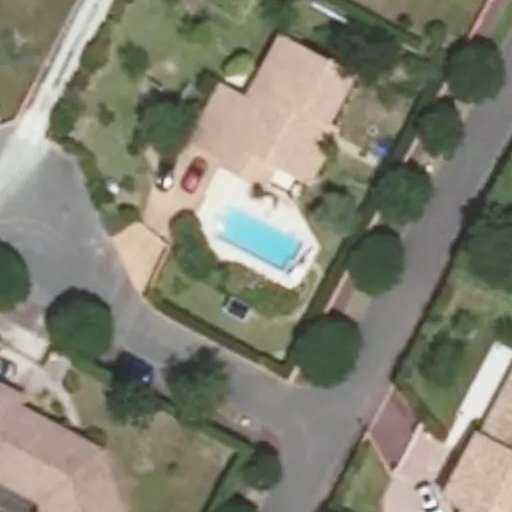pool: (211, 205, 308, 277)
